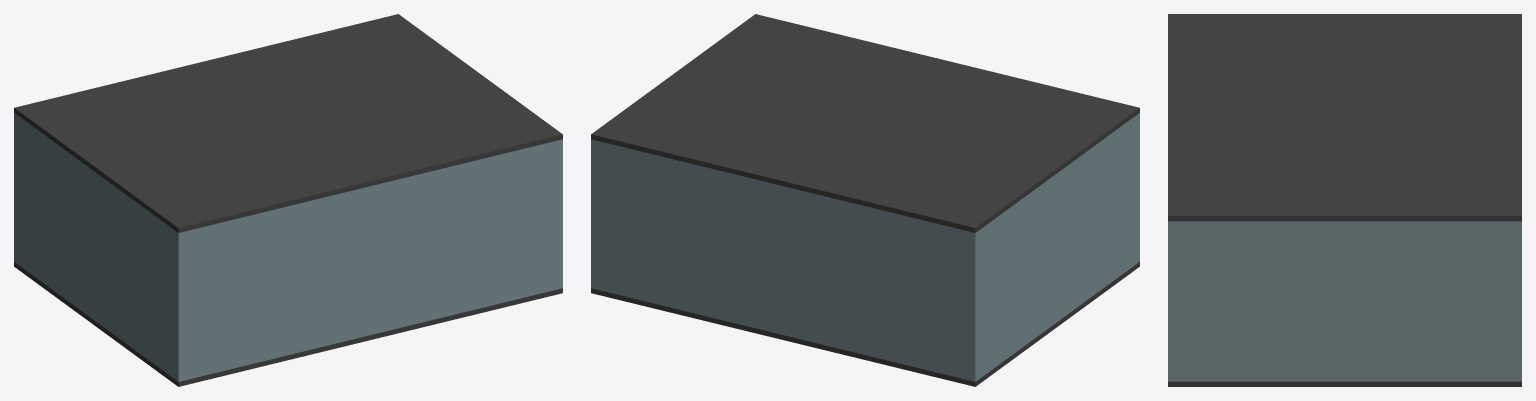
File: Sotano.fbx
3 renders of one model, left to right at view 1: azimuth 30°, elevation 25°; view 2: azimuth 150°, elevation 25°; view 3: azimuth 270°, elevation 25°, orthographic. The views are drawn at different scales.
Visible parts, largest first — view 1: Cube.005, Cube.004, Cube.001, Cube; view 2: Cube.005, Cube.002, Cube.001, Cube; view 3: Cube.005, Cube.003, Cube.
Part boxes in pixels (x1,y1,x2,y2): Cube.005: (14, 14, 562, 232); Cube.004: (181, 140, 560, 381); Cube.001: (14, 113, 180, 381); Cube: (14, 262, 562, 386); Cube.005: (591, 14, 1139, 232); Cube.002: (593, 140, 972, 381); Cube.001: (973, 113, 1139, 381); Cube: (591, 262, 1139, 386); Cube.005: (1168, 14, 1521, 221); Cube.003: (1168, 221, 1521, 381); Cube: (1168, 381, 1521, 386).
Size of the model in its own units: 810 by 320 by 600.
